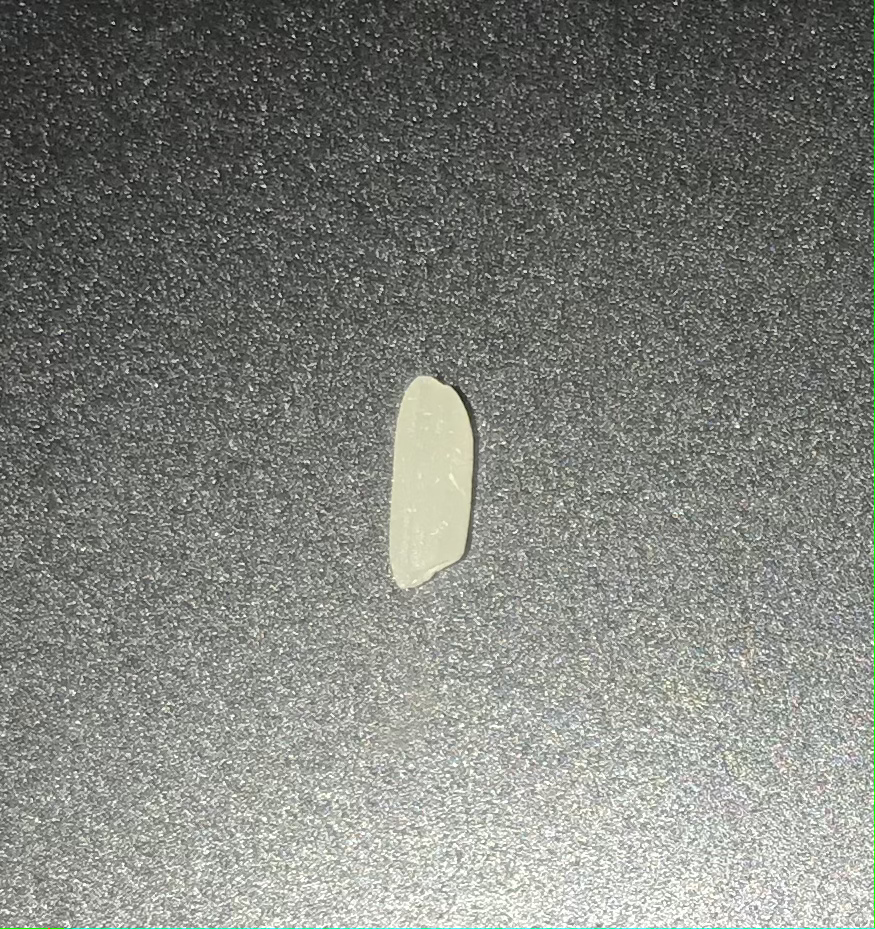Gao Tam Thom: (377, 364, 484, 589)
